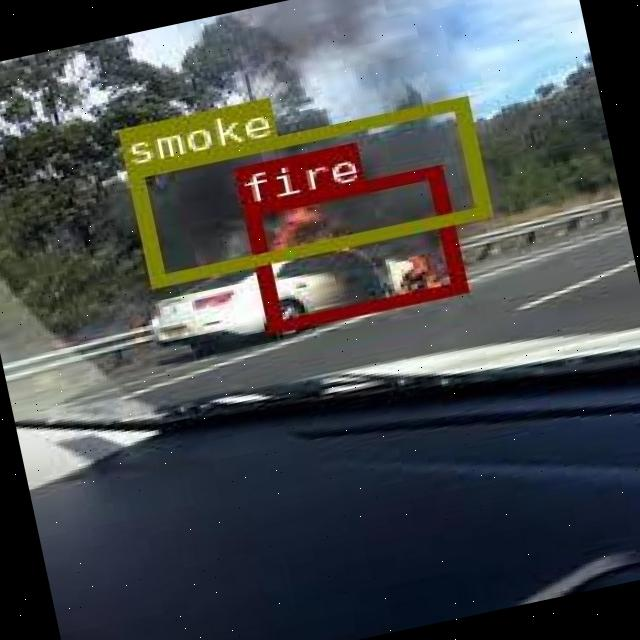fire: (240, 163, 464, 332)
smoke: (122, 94, 490, 286)
